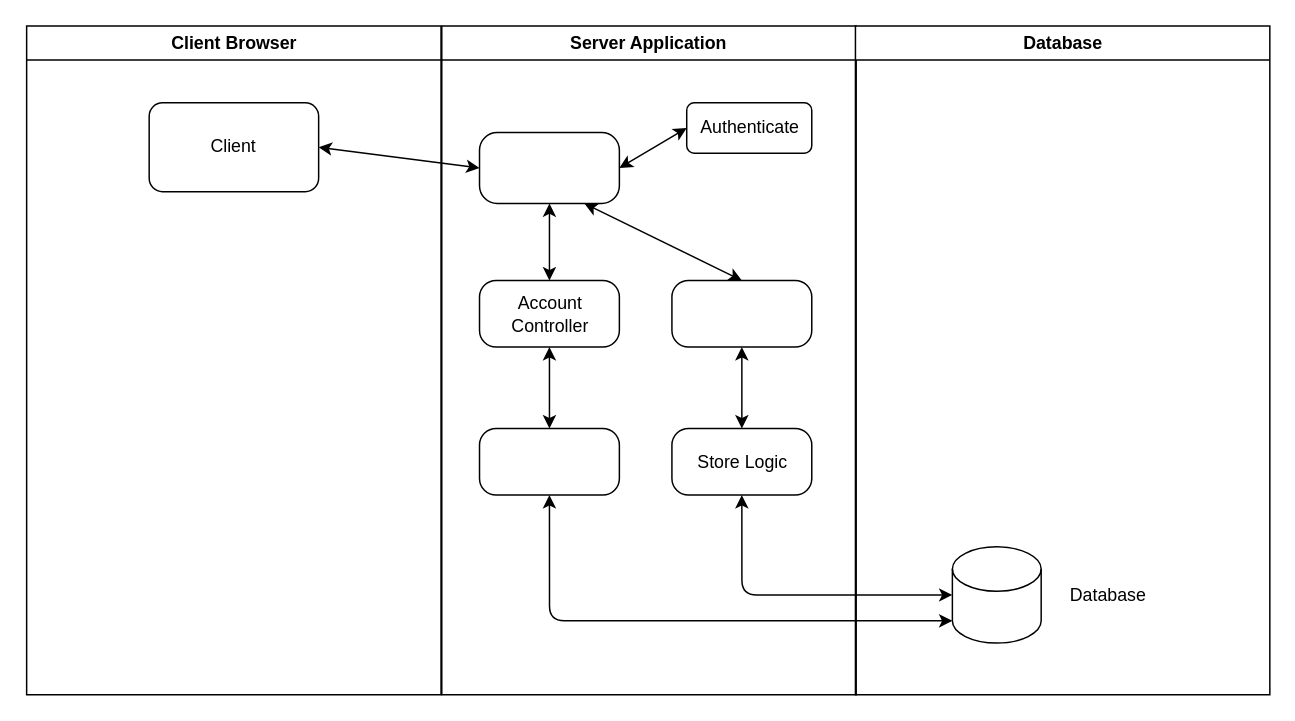
This 1295x721 diagram has some shape labels left out. Here are the shapes that lost their labels. From the top down, the centre of each, then its label:
At [548,167]: "Routing".
At [741,313]: "Store Controller".
At [548,461]: "Account Logic".
